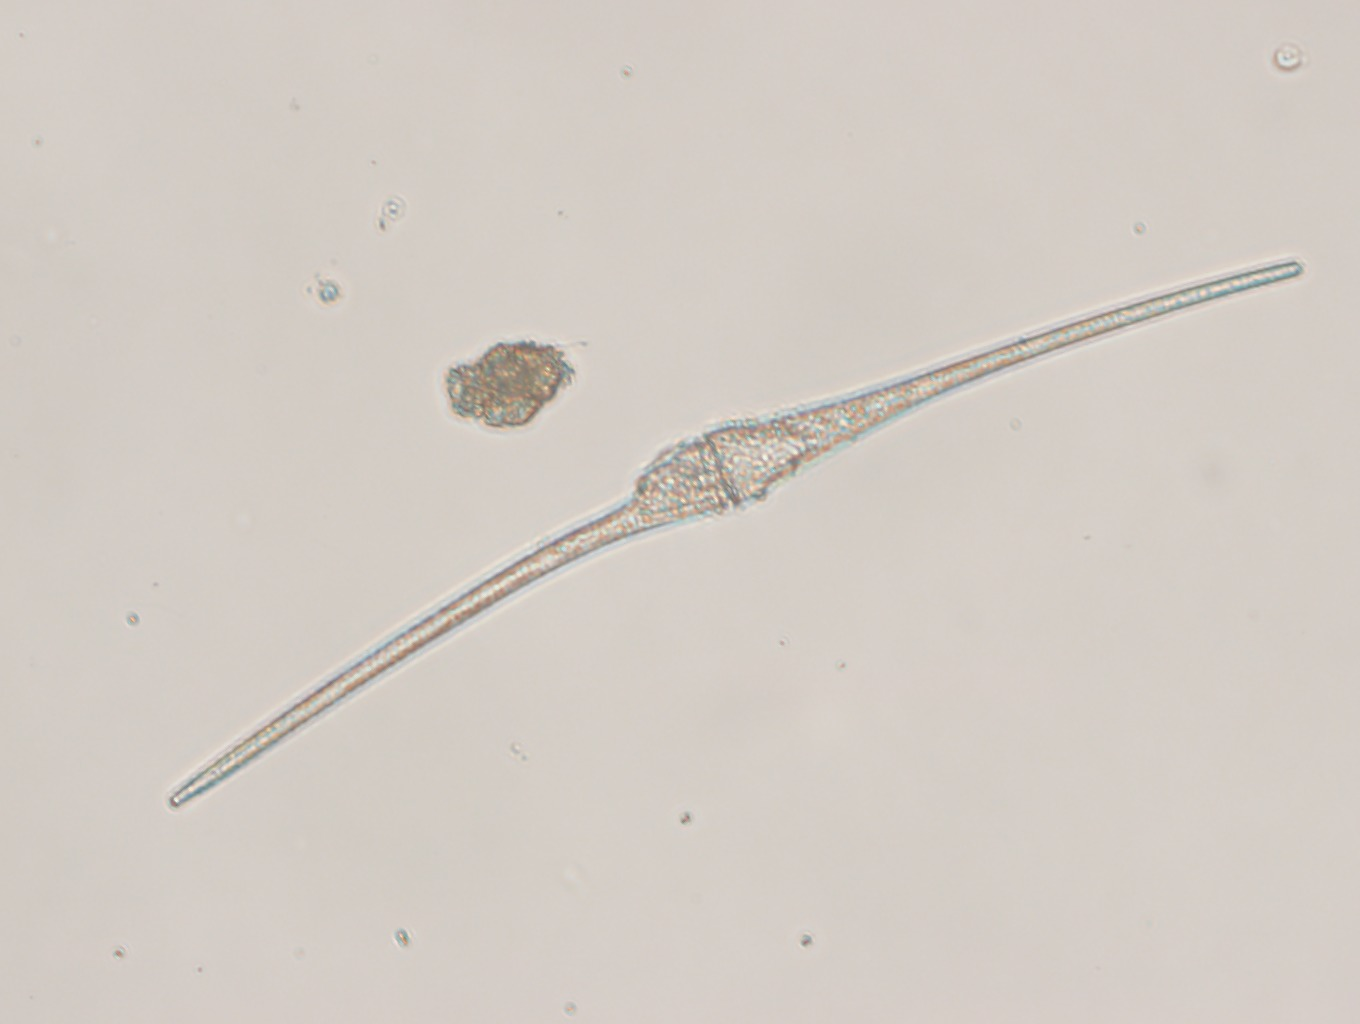ceratium fusus: (166, 255, 1305, 813)
